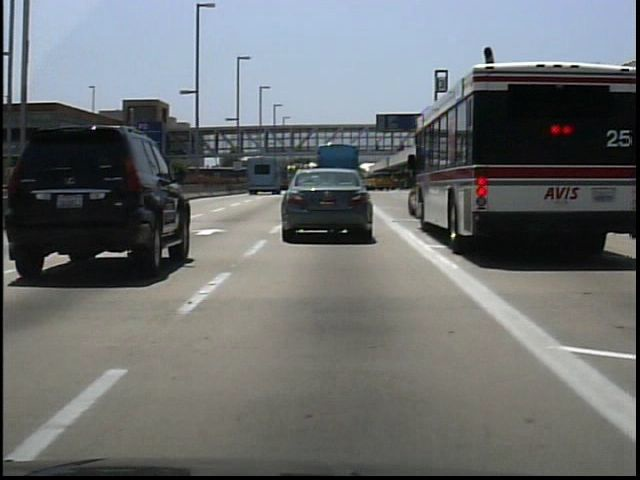person: (397, 136, 410, 158), (372, 137, 386, 157)
